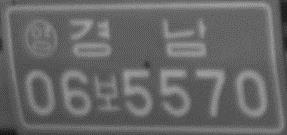0: (234, 68, 268, 119), (24, 67, 55, 116)
5: (157, 67, 191, 117), (121, 67, 152, 117)
6: (60, 67, 92, 117)
7: (195, 67, 227, 120)
경남_D: (68, 15, 208, 59)
보: (92, 70, 121, 114)
영: (24, 17, 59, 58)
